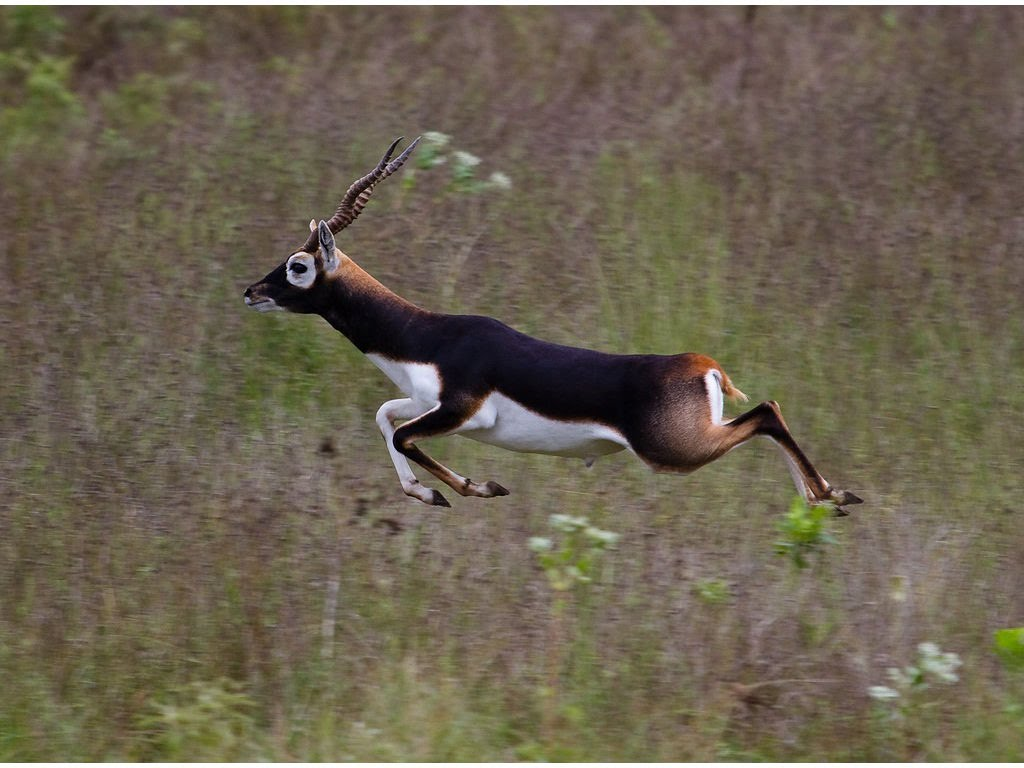Blackbuck: (236, 133, 868, 526)
